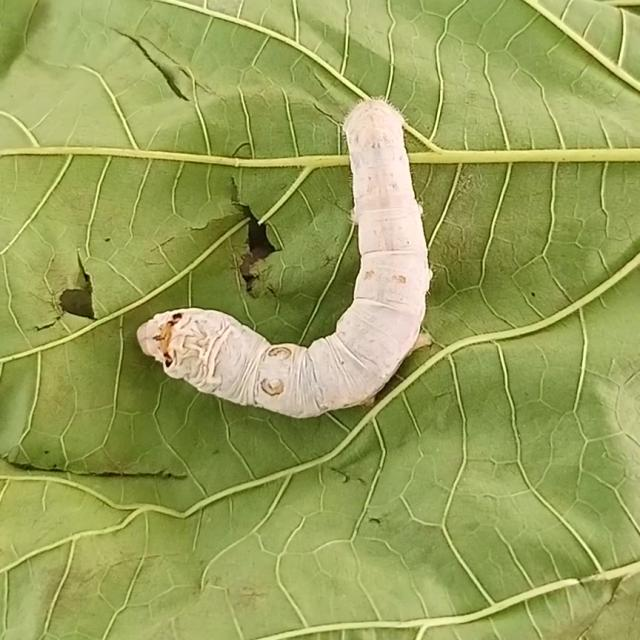Grasserie: (113, 76, 458, 434)
